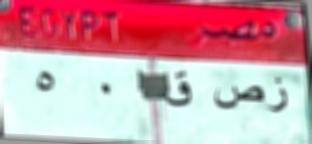0: (90, 74, 117, 105)
5: (33, 65, 59, 95)
qaaf: (163, 69, 196, 110)
saad: (210, 82, 265, 113)
zay: (268, 75, 291, 117)
